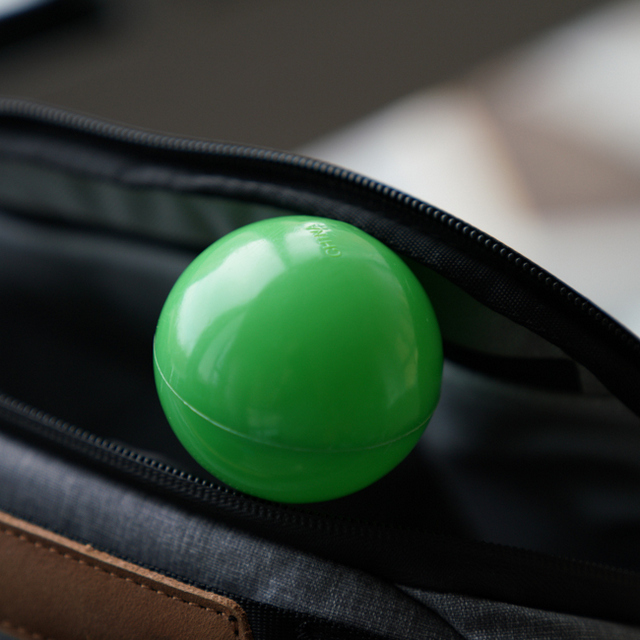Ball: (154, 217, 448, 502)
